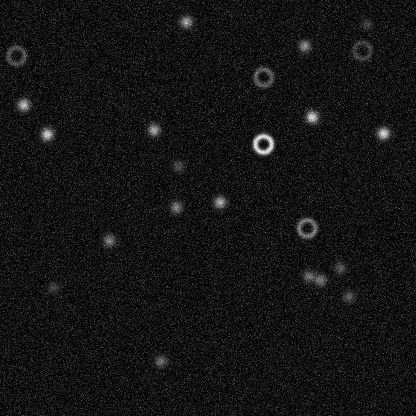Ring: (251, 65, 275, 89), (4, 43, 28, 67), (349, 38, 373, 62), (294, 215, 318, 239), (251, 131, 275, 155)
Spot: (101, 232, 117, 248), (145, 121, 161, 137), (340, 288, 356, 304), (303, 108, 319, 124), (177, 13, 193, 29), (45, 279, 61, 295), (332, 259, 348, 275), (168, 198, 184, 214), (211, 194, 227, 210), (39, 126, 55, 142), (15, 96, 31, 112), (375, 125, 391, 141), (358, 16, 374, 32), (152, 353, 168, 369), (300, 268, 316, 284), (312, 271, 328, 287), (169, 158, 185, 174), (296, 37, 312, 53)
